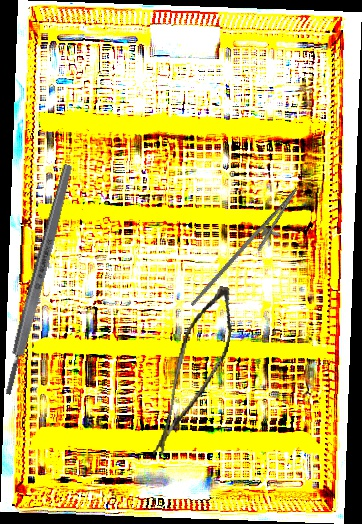Micro Scissor: (152, 279, 240, 467)
Needle Holder: (190, 176, 308, 324)
Scalpel Handle: (0, 163, 76, 396)
